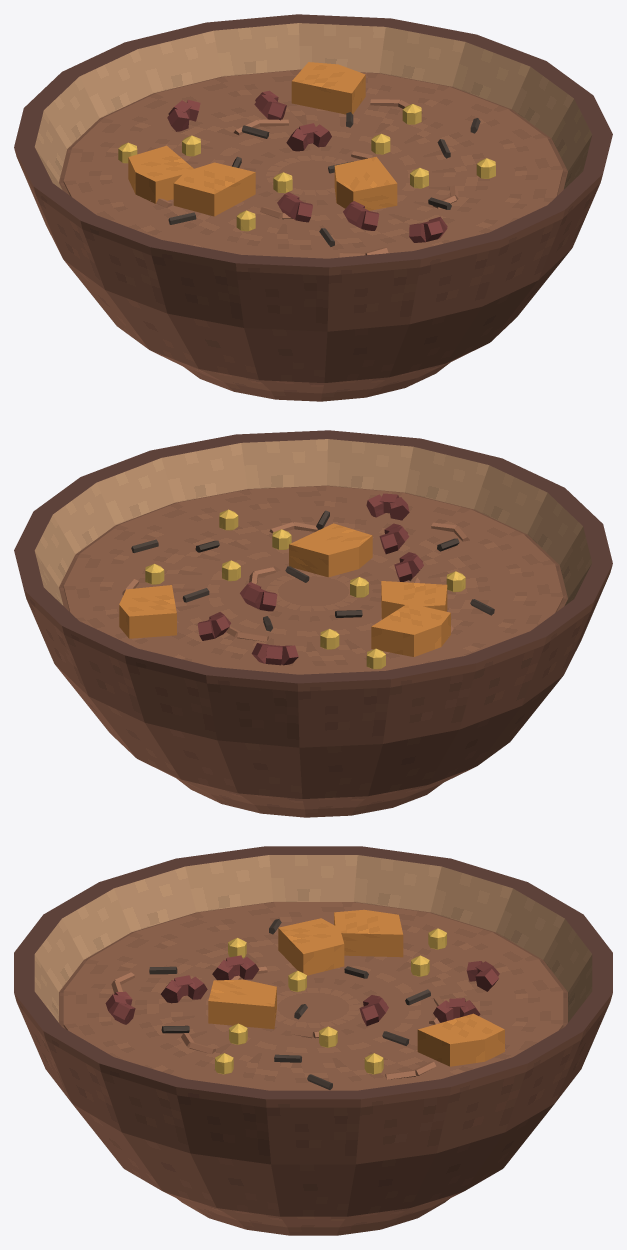
File: soup_three_sisters.glb
3 views of the same model, one above another, from view 1: azimuth 30°, elevation 25°; view 2: azimuth 150°, elevation 25°; view 3: azimuth 270°, elevation 25° (orthographic).
Parts seen in each view (by area): view 1: block_deep open soup bowl, block_soup surface, block_pumpkin piece (×4), block_shaded liquid meniscus; view 2: block_deep open soup bowl, block_soup surface, block_pumpkin piece (×4), block_shaded liquid meniscus; view 3: block_deep open soup bowl, block_soup surface, block_pumpkin piece (×4), block_shaded liquid meniscus.
Part boxes in pixels (left/top/right/bottom): block_deep open soup bowl: left=14, top=14, right=612, bottom=401; block_soup surface: left=63, top=70, right=563, bottom=258; block_pumpkin piece (×4): left=128, top=62, right=397, bottom=216; block_shaded liquid meniscus: left=59, top=69, right=567, bottom=195; block_deep open soup bowl: left=14, top=430, right=612, bottom=817; block_soup surface: left=63, top=486, right=563, bottom=674; block_pumpkin piece (×4): left=119, top=523, right=450, bottom=656; block_shaded liquid meniscus: left=59, top=485, right=567, bottom=611; block_deep open soup bowl: left=14, top=846, right=612, bottom=1235; block_soup surface: left=63, top=902, right=563, bottom=1090; block_pumpkin piece (×4): left=208, top=909, right=504, bottom=1066; block_shaded liquid meniscus: left=59, top=902, right=567, bottom=1028.
Bounding box in the file's own units: 0.1437 × 0.0533 × 0.1437.
Materials: 1 (1 with a texture image).
